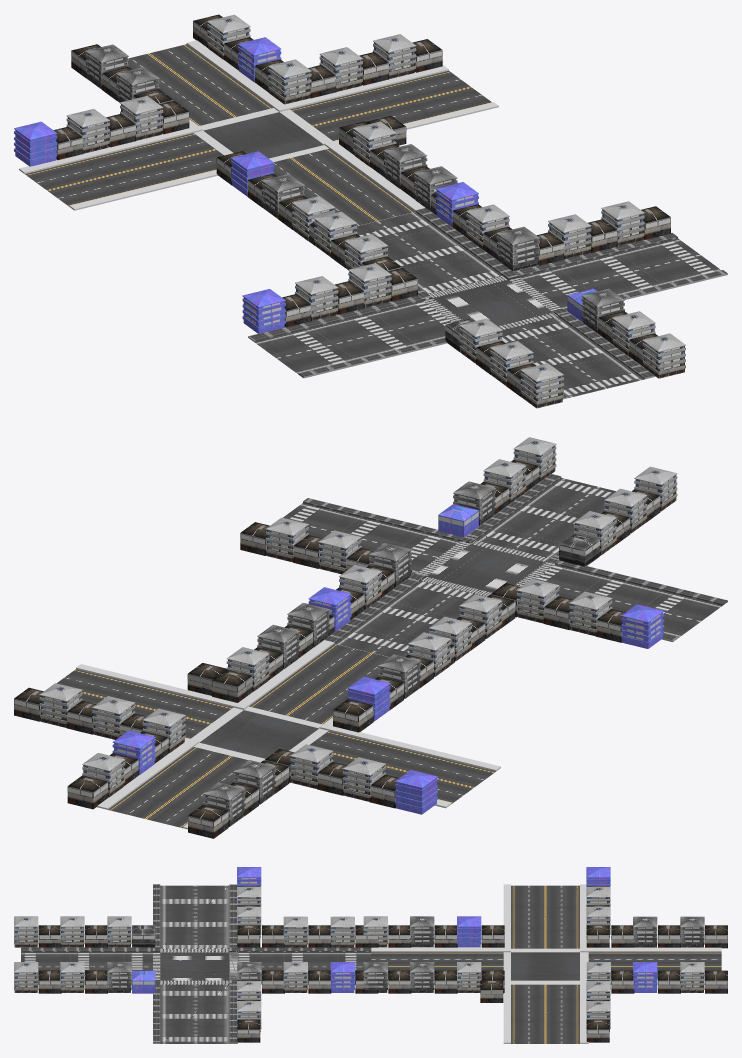
File: road.fbx
The picture shows the model from 3 angles, top to bottom: view 1: azimuth 30°, elevation 25°; view 2: azimuth 150°, elevation 25°; view 3: azimuth 270°, elevation 25°; orthographic projection. The views are drawn at different scales.
Visible parts, largest first — view 1: Plane.001_Plane, Plane, Cube.083_Cube, Cube.072_Cube, Cube.018_Cube, Cube.060_Cube, Cube.024_Cube, Cube.066_Cube, Cube.058_Cube, Cube.064_Cube, Cube.022_Cube, Cube.016_Cube (+34 smaller); view 2: Plane, Plane.001_Plane, Cube.060_Cube, Cube.018_Cube, Cube.016_Cube, Cube.064_Cube, Cube.022_Cube, Cube.014_Cube, Cube.062_Cube, Cube.056_Cube, Cube.058_Cube, Cube.020_Cube (+37 smaller); view 3: Plane, Plane.001_Plane, Cube.083_Cube, Cube.046_Cube, Cube.081_Cube, Cube.040_Cube, Cube.087_Cube, Cube.044_Cube, Cube.085_Cube, Cube.038_Cube, Cube.079_Cube, Cube.072_Cube (+50 smaller).
Part boxes in pixels (x1,y1,x2,y2): Plane.001_Plane: (248, 208, 727, 399); Plane: (19, 40, 498, 225); Cube.083_Cube: (520, 363, 563, 408); Cube.072_Cube: (642, 333, 685, 378); Cube.018_Cube: (14, 121, 57, 166); Cube.060_Cube: (242, 289, 285, 333); Cube.024_Cube: (268, 59, 311, 104); Cube.066_Cube: (496, 226, 539, 271); Cube.058_Cube: (601, 201, 644, 246); Cube.064_Cube: (348, 263, 391, 307); Cube.022_Cube: (119, 96, 163, 140); Cube.016_Cube: (373, 34, 416, 78); Plane: (57, 640, 500, 829); Plane.001_Plane: (283, 474, 727, 656); Cube.060_Cube: (621, 604, 664, 648); Cube.018_Cube: (395, 770, 437, 814); Cube.016_Cube: (39, 683, 82, 727); Cube.064_Cube: (516, 578, 559, 623); Cube.022_Cube: (290, 744, 333, 788); Cube.014_Cube: (92, 696, 135, 739); Cube.062_Cube: (569, 591, 612, 636); Cube.056_Cube: (318, 530, 361, 574); Cube.058_Cube: (266, 517, 308, 562); Cube.020_Cube: (343, 757, 385, 801); Plane: (371, 884, 721, 1043); Plane.001_Plane: (21, 884, 371, 1043); Cube.083_Cube: (14, 916, 38, 947); Cube.046_Cube: (457, 916, 481, 947); Cube.081_Cube: (330, 916, 354, 947); Cube.040_Cube: (680, 916, 704, 947); Cube.087_Cube: (107, 916, 131, 947); Cube.044_Cube: (410, 916, 434, 947); Cube.085_Cube: (60, 916, 84, 947); Cube.038_Cube: (633, 916, 657, 947); Cube.079_Cube: (283, 916, 307, 947); Cube.072_Cube: (14, 962, 38, 992).
Bounding box in the file's own units: 3255 × 239 × 6201.
9 materials, 5 textured.
